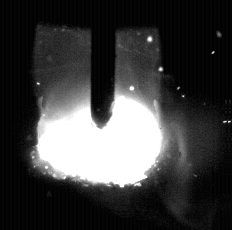arame: (92, 0, 116, 128)
poca: (36, 0, 162, 230)
